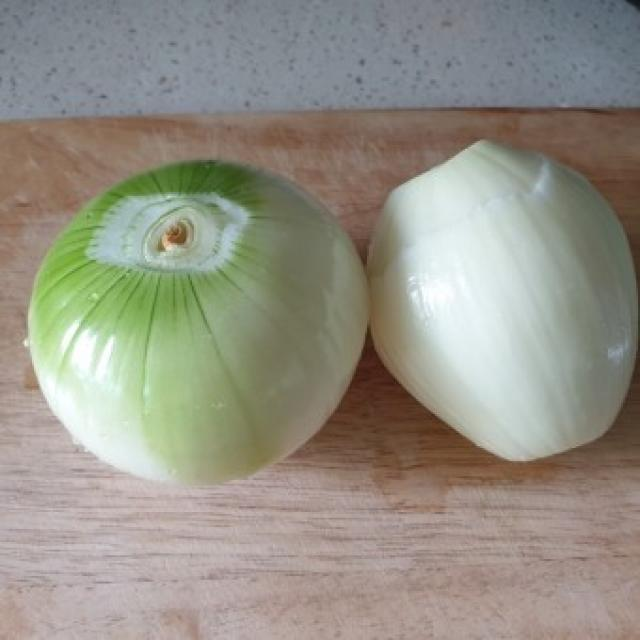onion: (27, 154, 369, 502), (376, 132, 634, 472)
